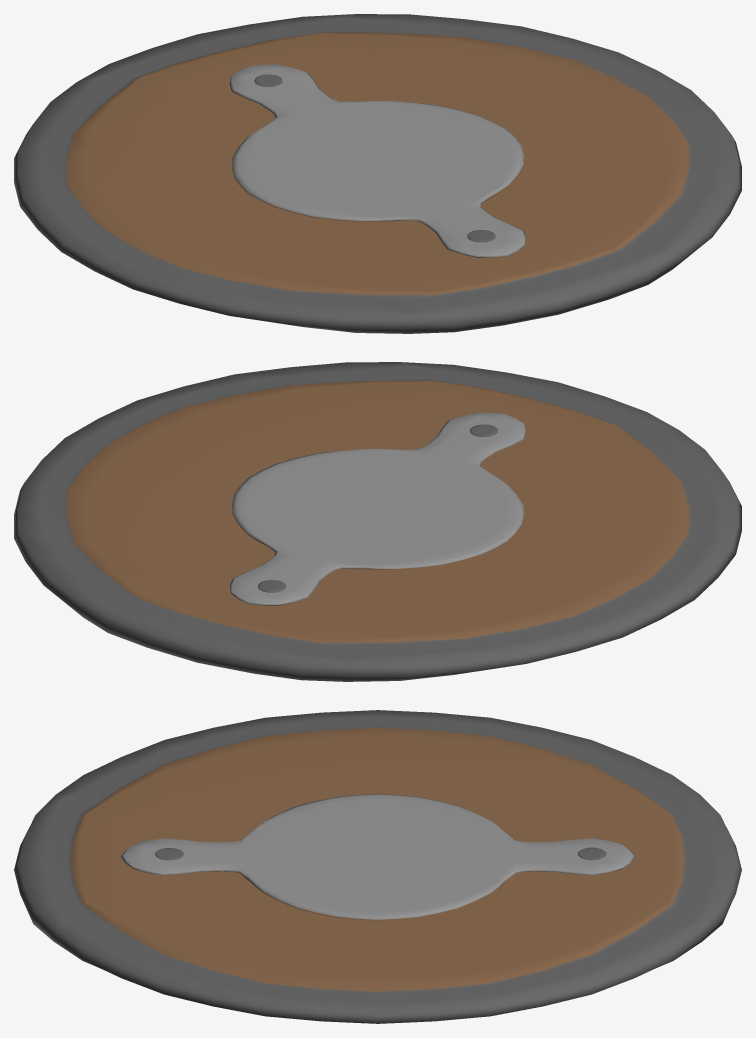
The model's file is Shield_01.fbx.
3 renders of one model, top to bottom at view 1: azimuth 30°, elevation 25°; view 2: azimuth 150°, elevation 25°; view 3: azimuth 270°, elevation 25°, orthographic.
Visible parts, largest first — view 1: Shield_01; view 2: Shield_01; view 3: Shield_01.
Boxes of the visible parts, x1,y1,x2,y2 form: Shield_01: (14, 14, 741, 333); Shield_01: (14, 362, 741, 681); Shield_01: (14, 710, 741, 1023).
Size of the model in its own units: 34.98 by 1.35 by 34.98.
